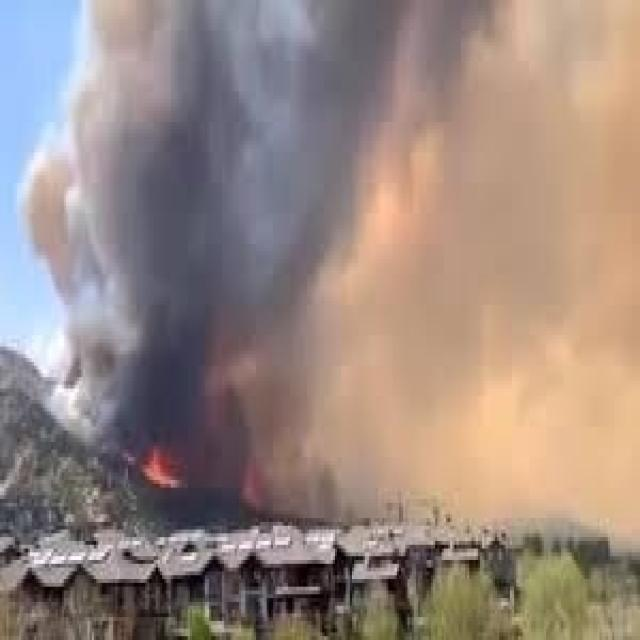Fire: (140, 449, 182, 492)
Smoke: (19, 4, 640, 568)
